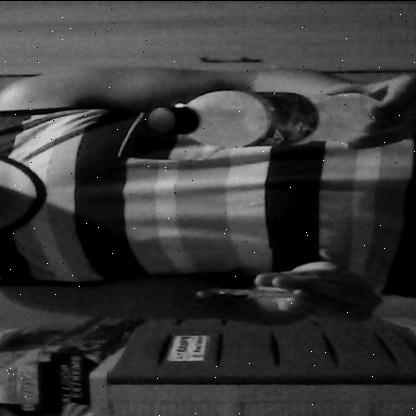Plastic Bottle: (139, 79, 394, 158)
